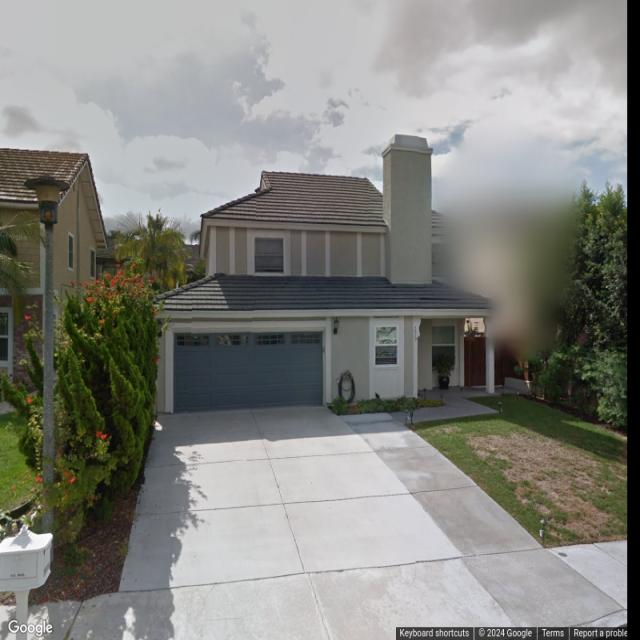House: (144, 134, 499, 416), (0, 145, 109, 401)
